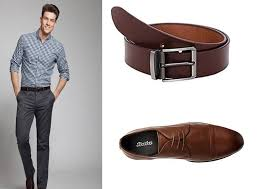F_belt: (14, 84, 54, 95)
F_dress pants: (14, 93, 55, 187)
